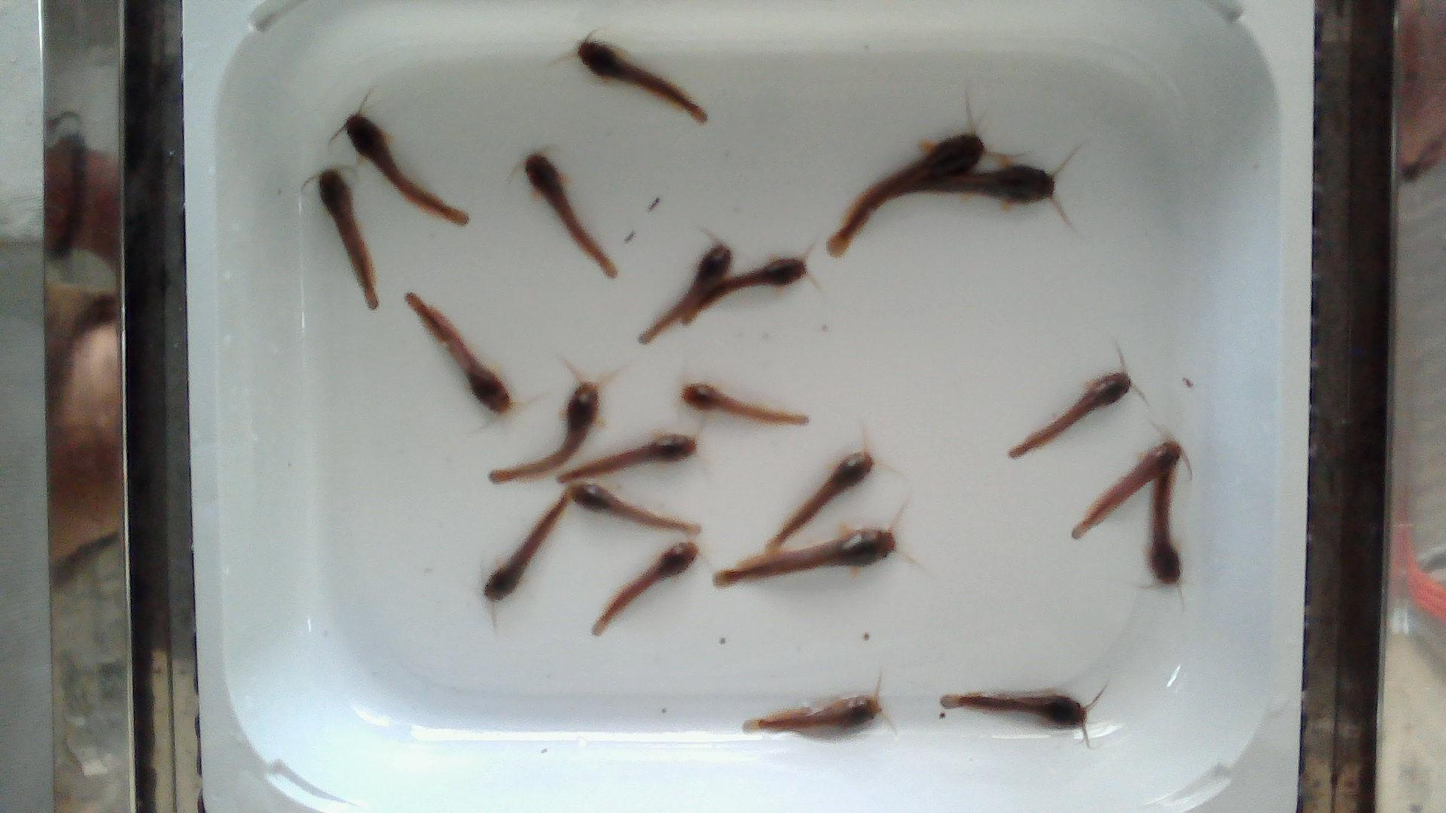lele: (831, 133, 990, 257), (346, 113, 468, 224), (406, 294, 512, 412), (526, 154, 617, 277), (577, 38, 707, 123), (490, 382, 599, 481), (1008, 372, 1131, 458), (769, 452, 874, 551), (1069, 442, 1180, 535), (714, 530, 895, 586), (592, 542, 697, 635), (484, 491, 569, 601), (681, 257, 808, 328), (319, 170, 378, 309), (644, 244, 730, 339), (896, 161, 1055, 205), (570, 483, 700, 534), (558, 434, 695, 482), (941, 690, 1088, 729), (682, 384, 808, 425), (743, 695, 881, 732), (1148, 467, 1182, 584)
